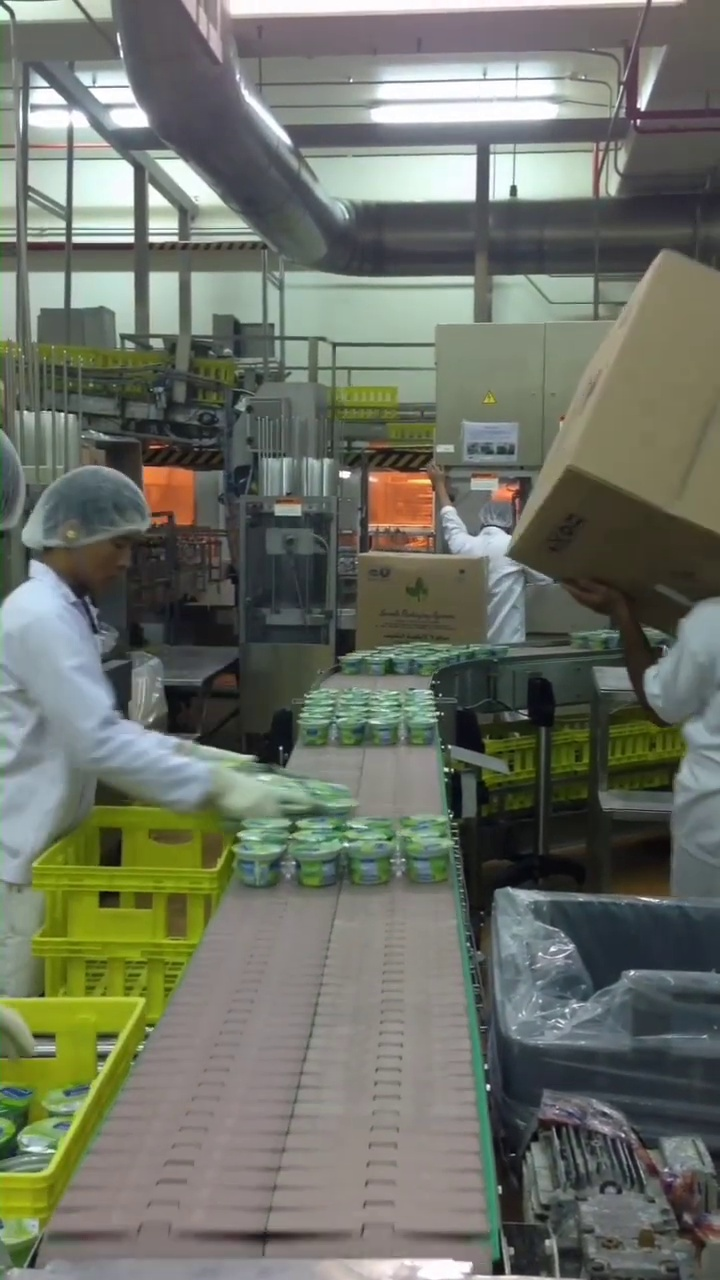0 employé: (0, 411, 174, 1017), (423, 440, 536, 652)
1 machine: (18, 594, 720, 1246)
3 produit: (232, 802, 478, 884), (333, 632, 509, 675), (292, 689, 446, 738), (573, 616, 674, 642)
